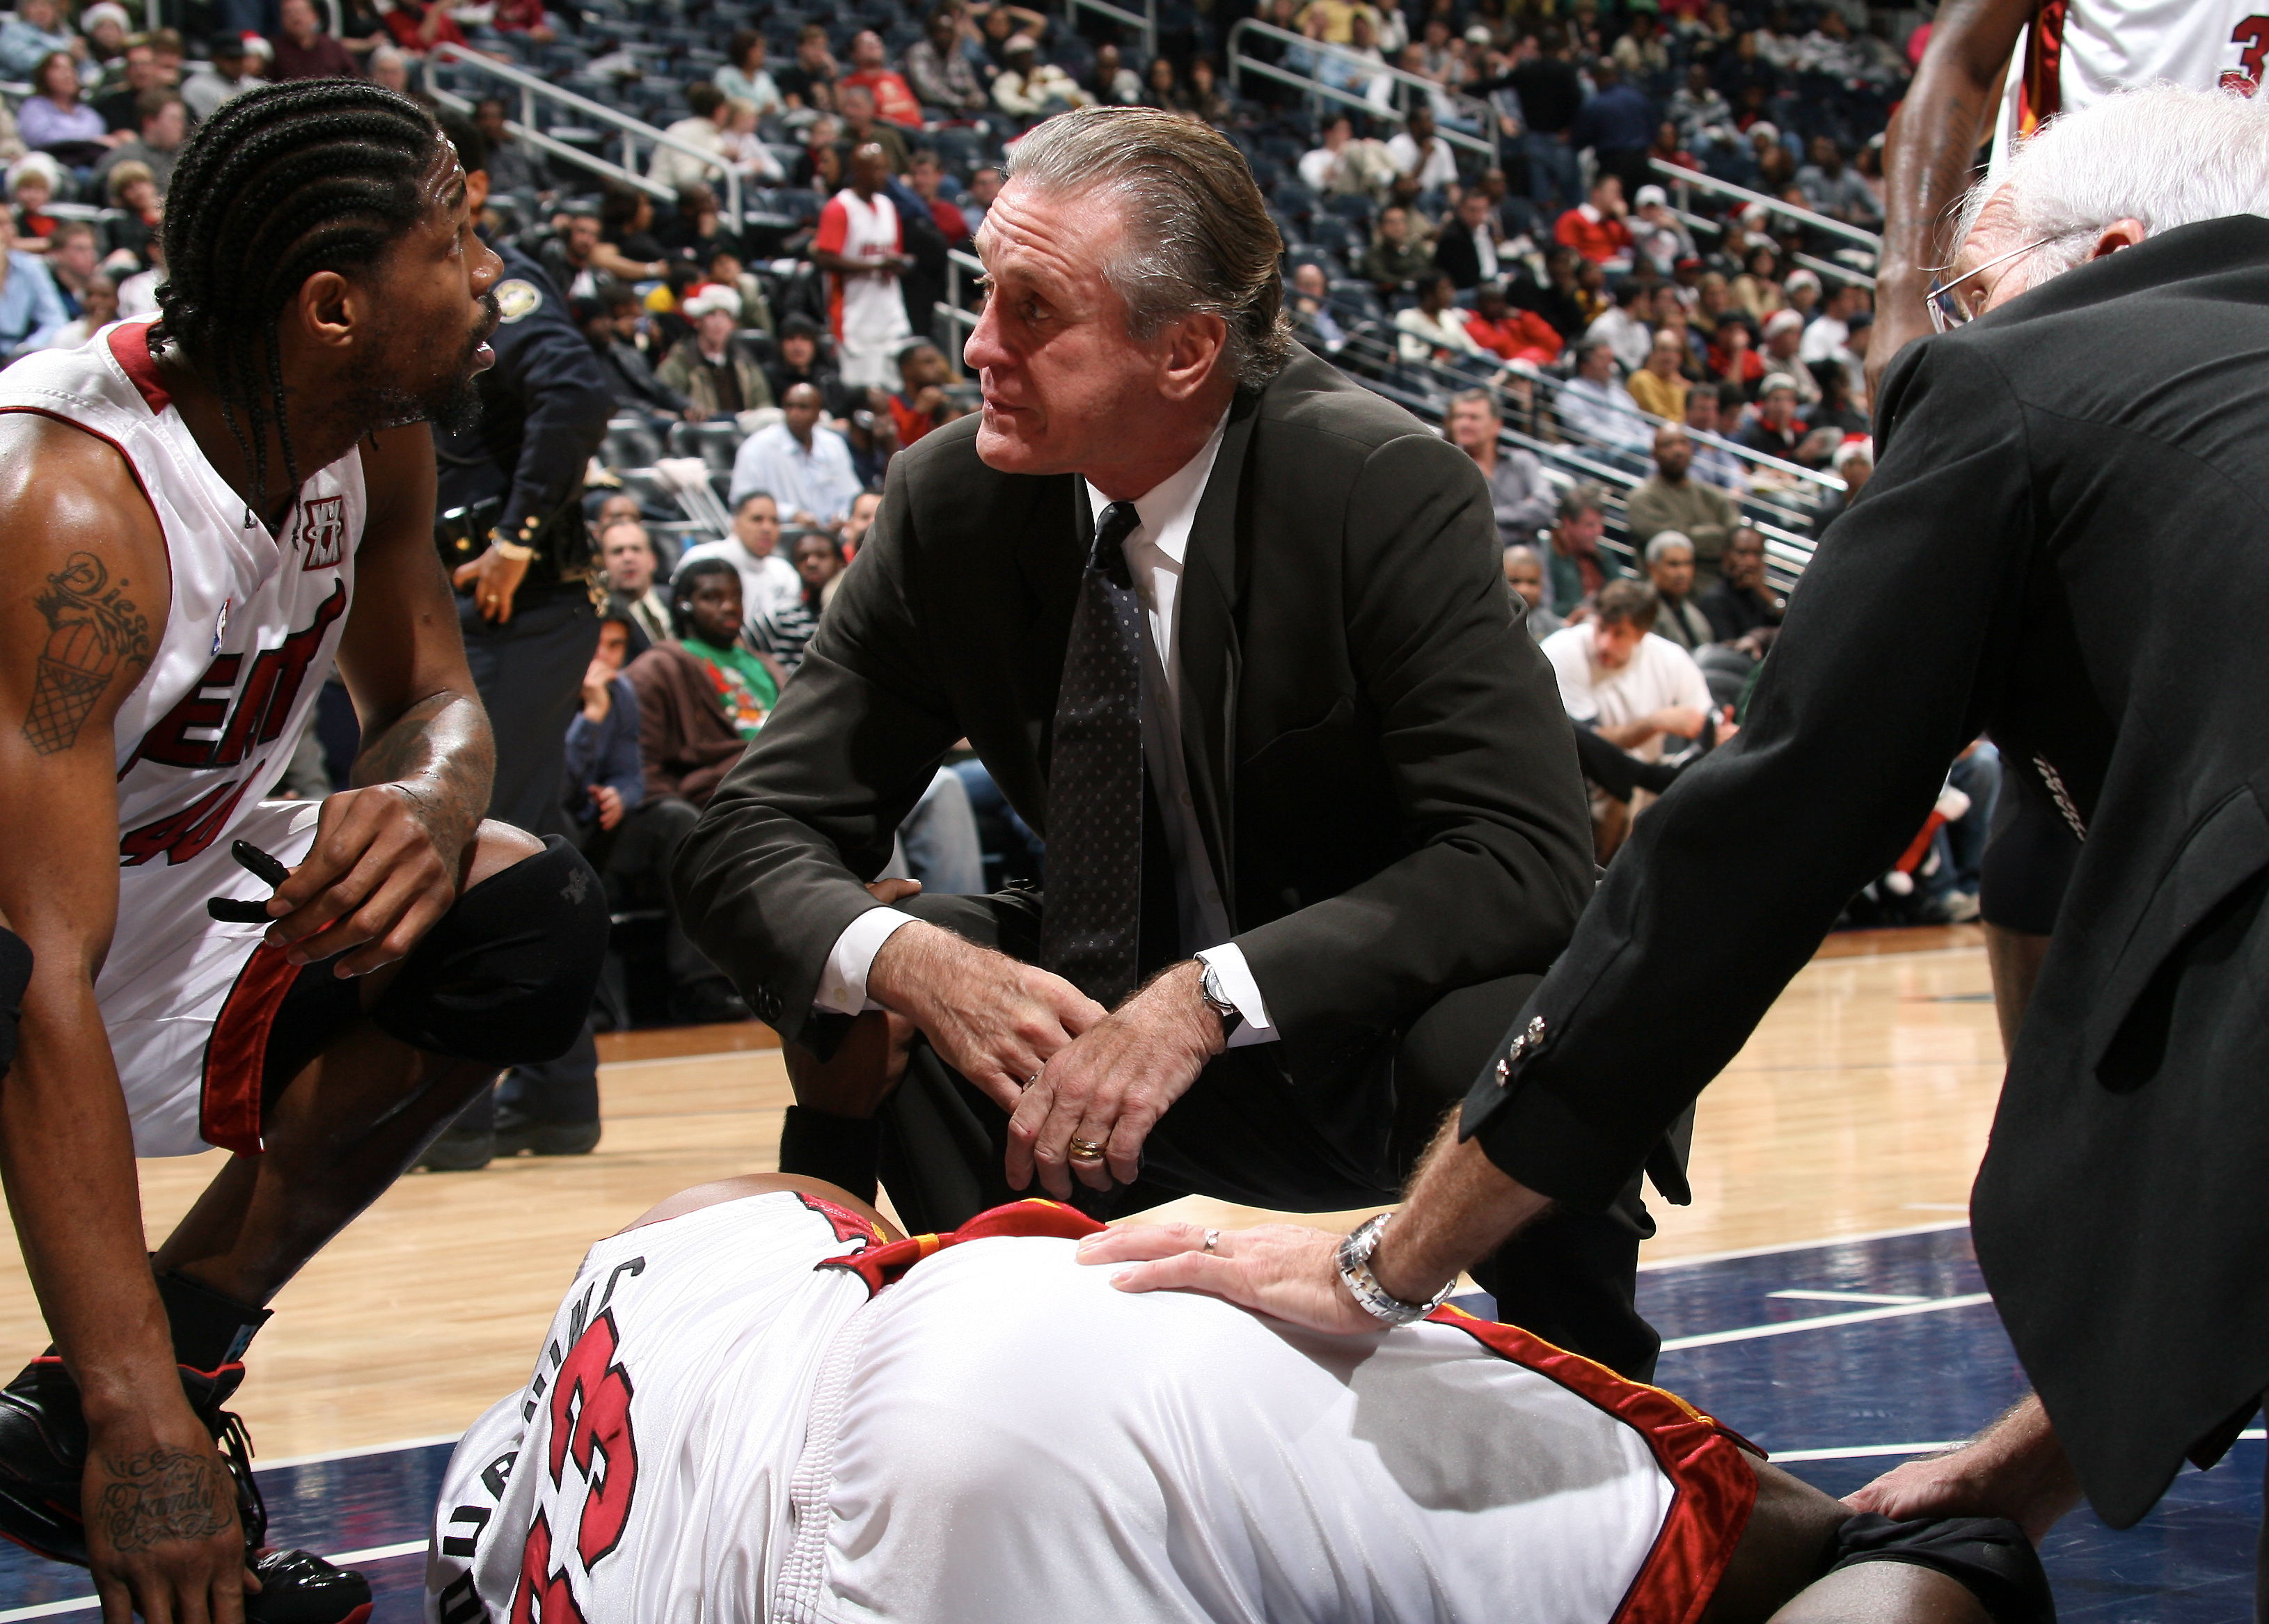10+: (0, 0, 2260, 1610)
down: (397, 1165, 2076, 1624)
